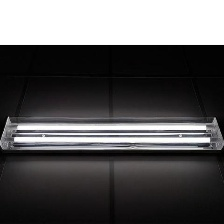light_bulb: (5, 118, 222, 134), (1, 133, 220, 148)
